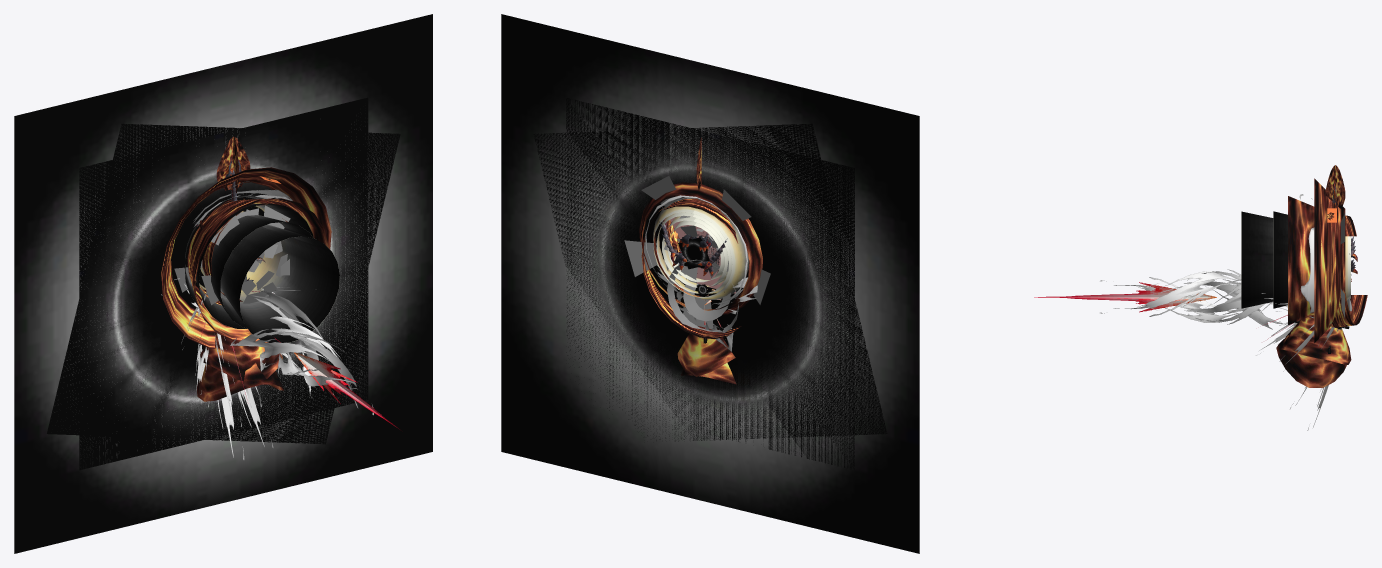
The picture shows the model from 3 angles, left to right: view 1: azimuth 30°, elevation 25°; view 2: azimuth 150°, elevation 25°; view 3: azimuth 270°, elevation 25°; orthographic projection. The views are drawn at different scales.
Parts seen in each view (by area): view 1: Plane@#11, Plane, Plane@#10, Plane22, Plane02@#32, Plane04, Plane12, Plane31, Plane21, "Editable Poly@#34", Plane34, "Editable Poly@#6"; view 2: Plane@#11, Plane, Plane@#10, Plane02@#32, Plane21, "Editable Poly@#34", Plane12, Plane36, Plane22, "Editable Poly@#9", M480, "Editable Poly@#26" (+2 smaller); view 3: Plane02@#32, Plane04, Plane12, Plane22, Plane31, Plane21, "Editable Poly@#6", Plane36, Plane34, Plane35.
Part boxes in pixels (x1,y1,x2,y2): Plane@#11: [14, 14, 432, 553]; Plane: [79, 97, 368, 470]; Plane@#10: [47, 123, 400, 444]; Plane22: [195, 203, 339, 342]; Plane02@#32: [161, 167, 331, 348]; Plane04: [230, 288, 373, 415]; Plane12: [197, 333, 283, 401]; Plane31: [187, 198, 328, 341]; Plane21: [184, 193, 312, 328]; "Editable Poly@#34": [174, 205, 290, 305]; Plane34: [161, 278, 316, 459]; "Editable Poly@#6": [294, 352, 399, 429]; Plane@#11: [501, 14, 919, 553]; Plane: [566, 98, 854, 469]; Plane@#10: [533, 123, 887, 441]; Plane02@#32: [639, 182, 762, 314]; Plane21: [653, 197, 748, 299]; "Editable Poly@#34": [624, 176, 770, 329]; Plane12: [677, 333, 736, 384]; Plane36: [641, 198, 741, 339]; Plane22: [656, 212, 732, 293]; "Editable Poly@#9": [667, 259, 738, 332]; M480: [659, 207, 727, 275]; "Editable Poly@#26": [670, 217, 735, 293]; Plane02@#32: [1314, 178, 1345, 342]; Plane04: [1100, 269, 1287, 329]; Plane12: [1276, 314, 1351, 387]; Plane22: [1241, 211, 1273, 308]; Plane31: [1288, 196, 1314, 325]; Plane21: [1273, 211, 1350, 308]; "Editable Poly@#6": [1034, 282, 1216, 312]; Plane36: [1331, 215, 1367, 327]; Plane34: [1256, 293, 1342, 430]; Plane35: [1299, 194, 1314, 312].
Size of the model in its own units: 6.21 by 6.21 by 5.79.
